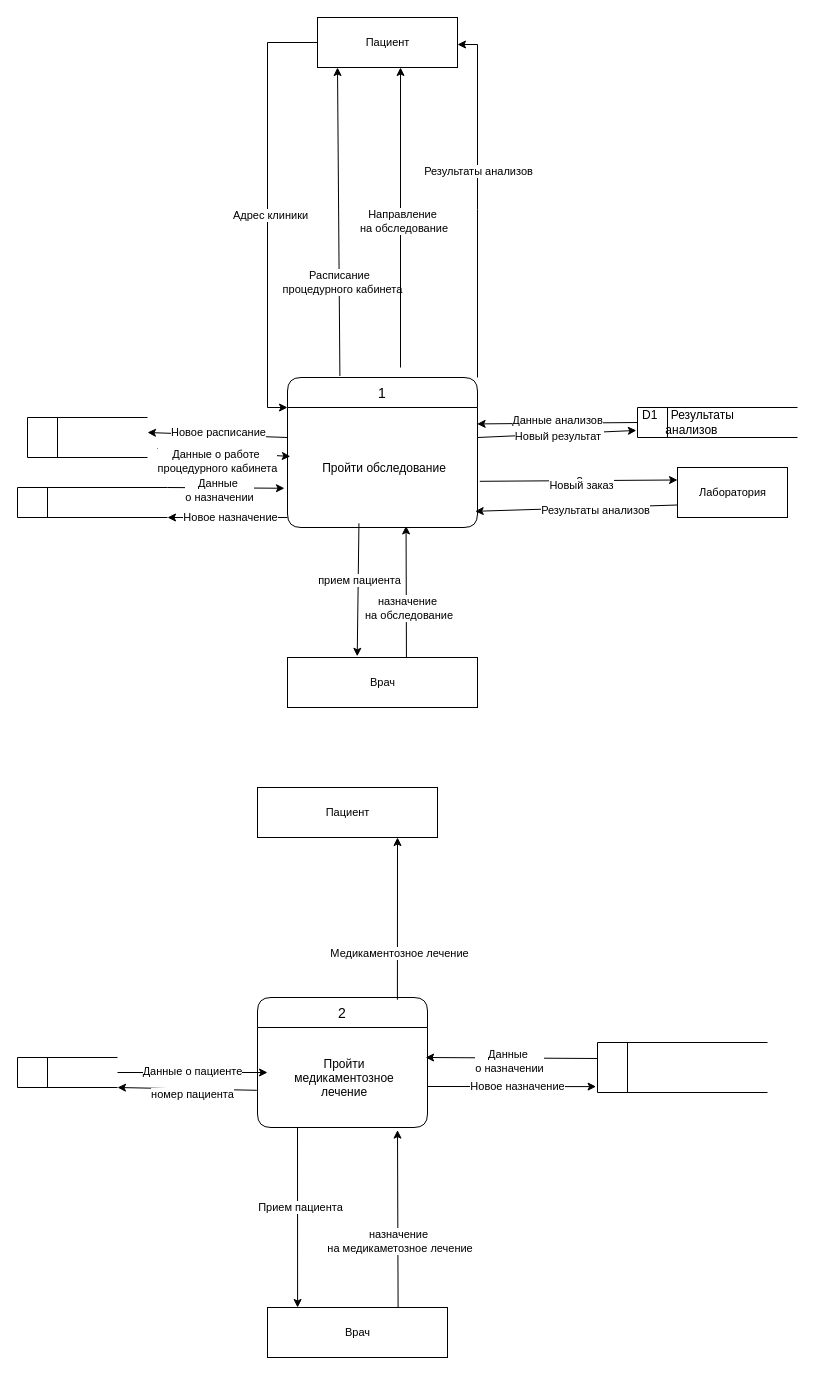
The diagram is 815 pixels wide and 1375 high, and some of its shapes have lost their labels. The centre of each missing label's shape, as x and y in pixels:
"D2 Медикаментозные назначения" belongs at (682,1067).
"D2 Расписание" belongs at (87,437).
"D3 Назначения на обследования" belongs at (92,502).
"D3 Пациенты" belongs at (67,1072).
